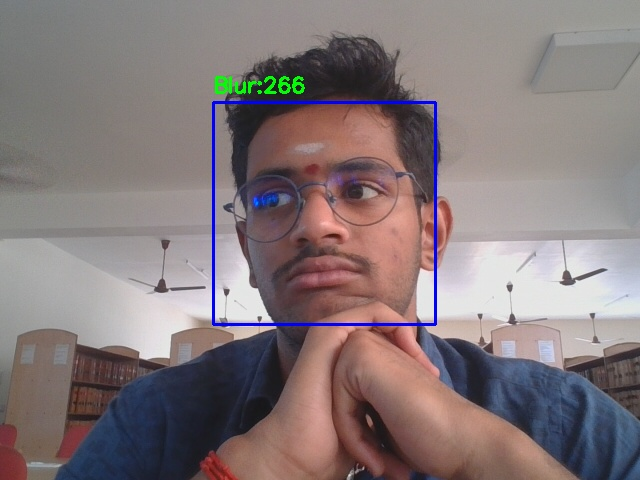real: (213, 102, 435, 324)
